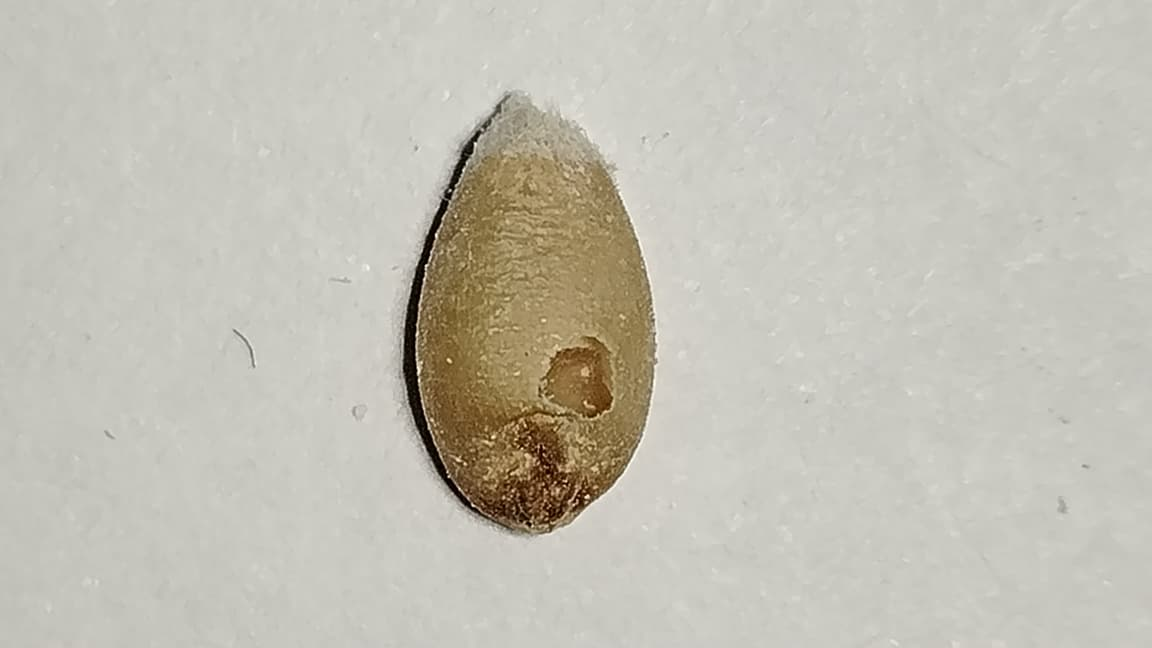damage: (416, 101, 655, 532)
insectdamage: (524, 311, 633, 418)
staindamage: (472, 414, 598, 531)
